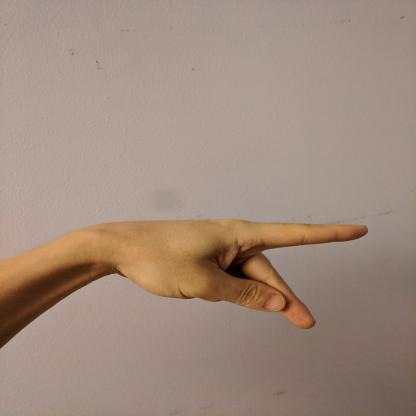P: (105, 214, 371, 334)
